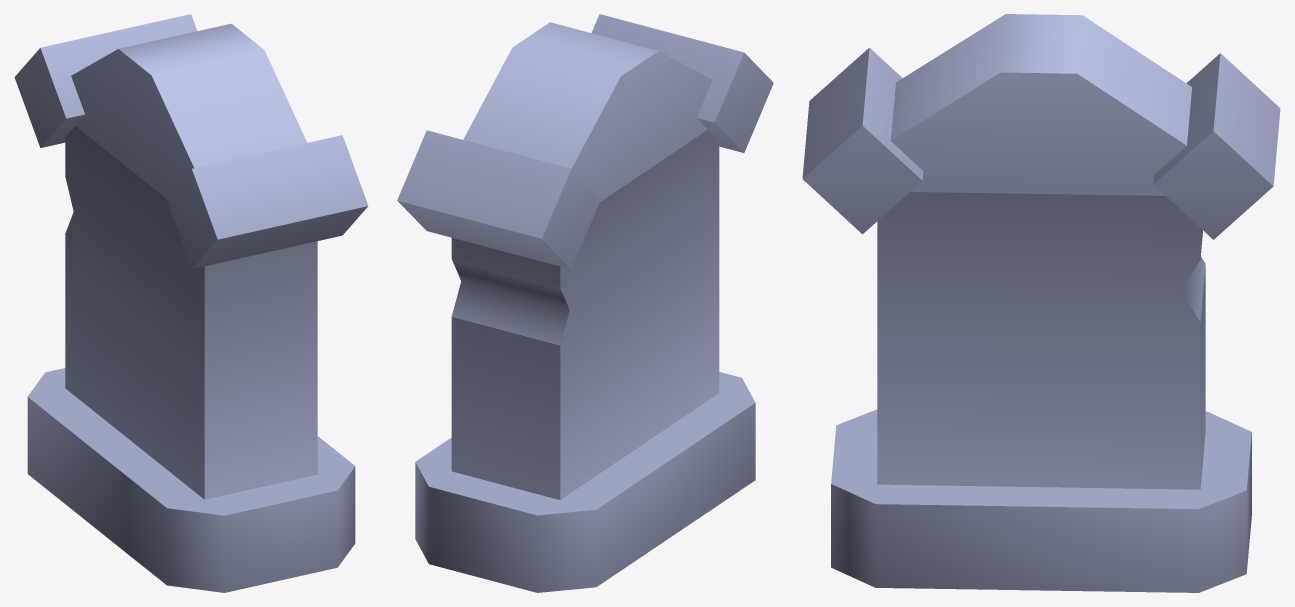
The model's file is gravestone-decorative.005_lev3.glb.
3 renders of one model, left to right at view 1: azimuth 30°, elevation 25°; view 2: azimuth 150°, elevation 25°; view 3: azimuth 270°, elevation 25°, orthographic. The views are drawn at different scales.
Parts seen in each view (by area): view 1: gravestone-decorative.005_lev3; view 2: gravestone-decorative.005_lev3; view 3: gravestone-decorative.005_lev3.
Boxes of the visible parts, left/top/right/bottom form: gravestone-decorative.005_lev3: left=14, top=14, right=368, bottom=592; gravestone-decorative.005_lev3: left=397, top=14, right=773, bottom=592; gravestone-decorative.005_lev3: left=802, top=14, right=1280, bottom=592.
Bounding box in the file's own units: 0.8468 × 1.91 × 1.67.
1 material, 1 textured.
